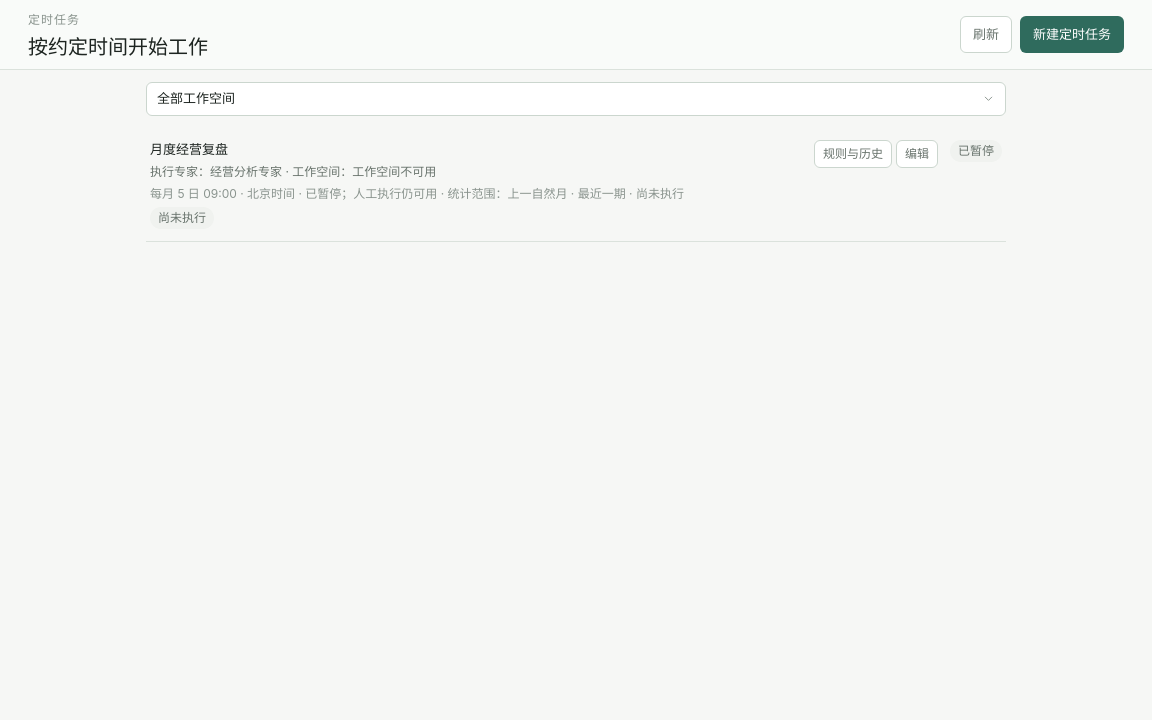
Test: SchedulesPage › opens the rule detail as a full page and returns without making the list row a button
Click the button "规则与历史". click: (853, 154)
box: [814, 140, 892, 168]
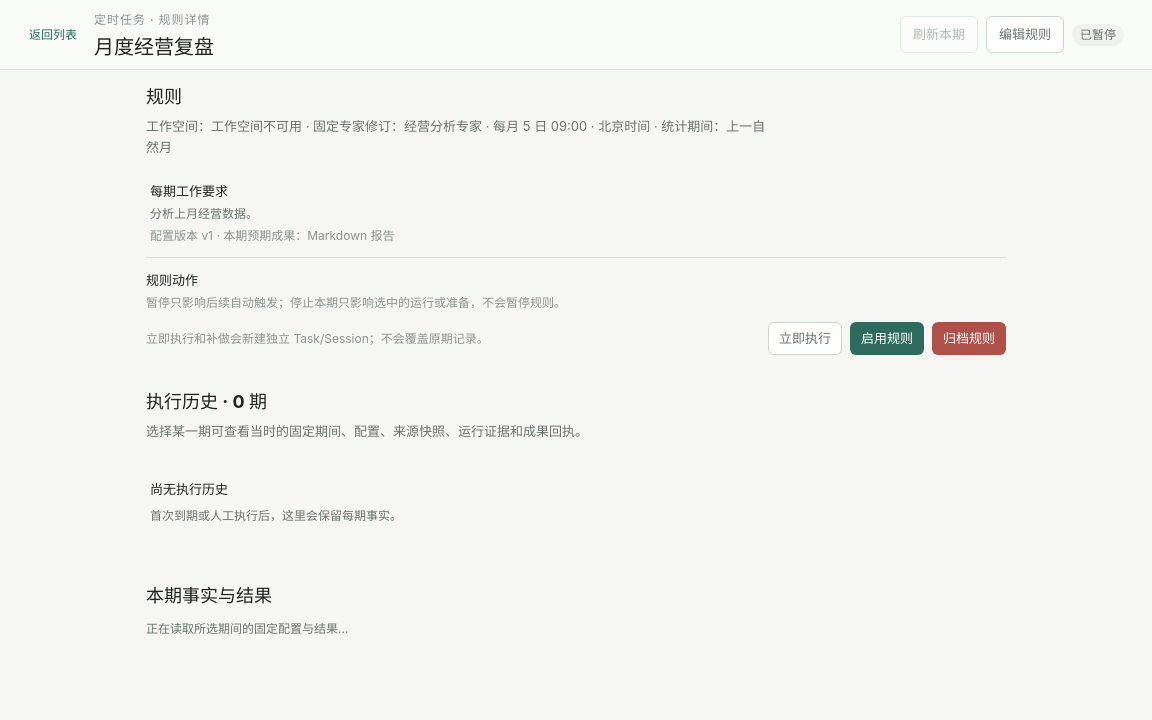
Check: the heading "月度经营复盘" is shown, box [94, 30, 214, 60]
Check: the element named "定时任务详情" is shown, box [146, 86, 1006, 636]
Click the button "返回列表". click: (53, 34)
box: [28, 20, 78, 48]
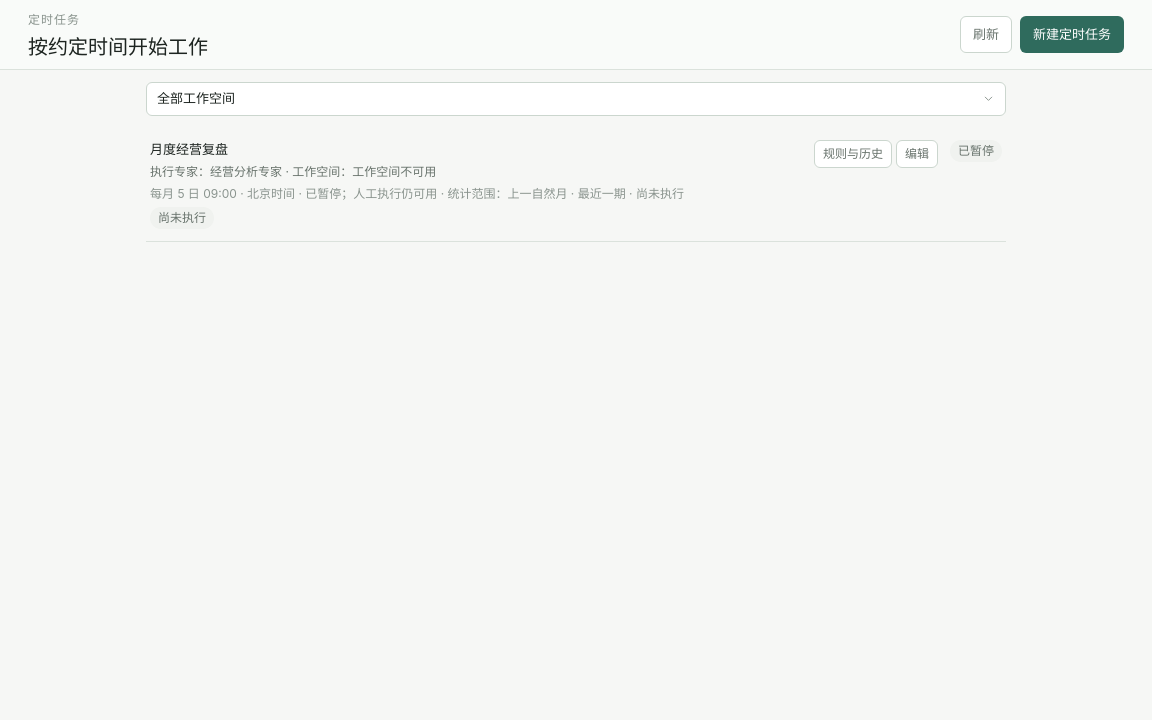
Check: the heading "按约定时间开始工作" is shown, box [28, 30, 208, 60]
